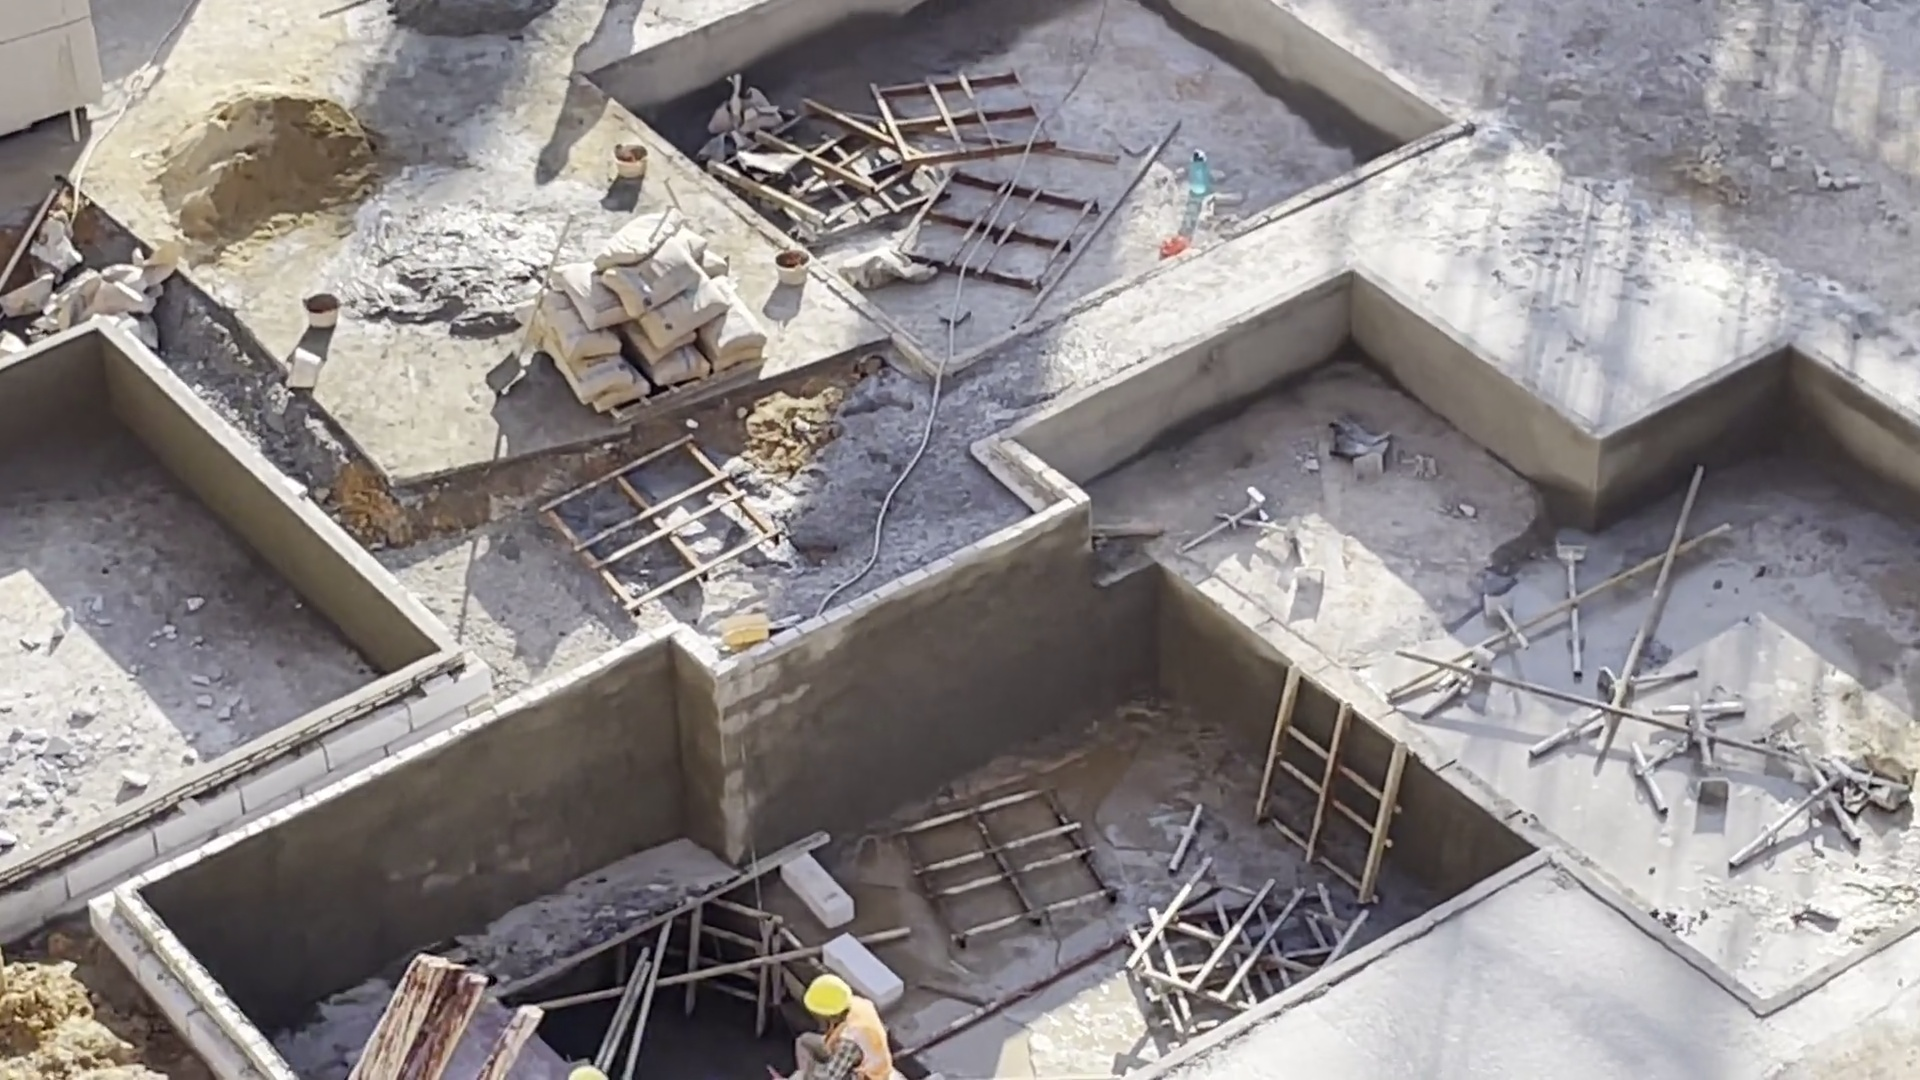helmet: (802, 964, 846, 1009)
person: (771, 964, 919, 1080)
vest: (833, 1007, 904, 1080)
